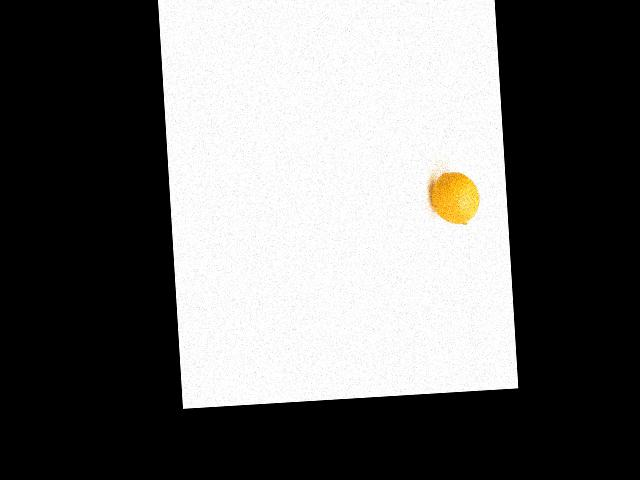lemon: (422, 164, 482, 227)
